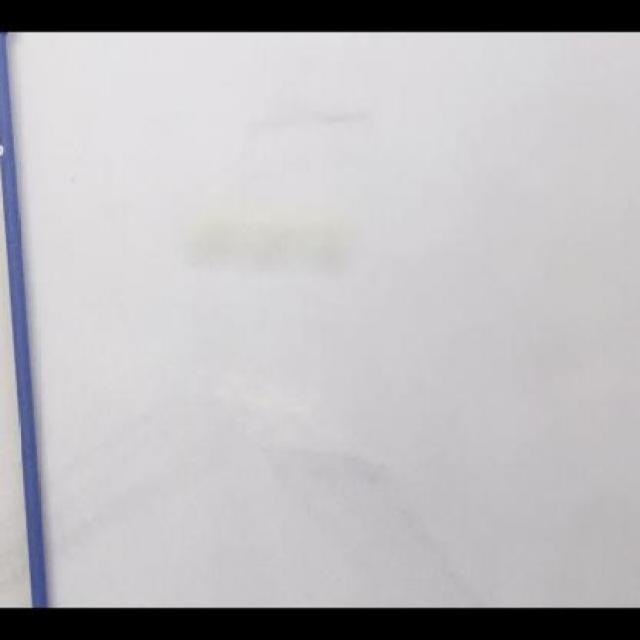baseball: (189, 191, 356, 269)
